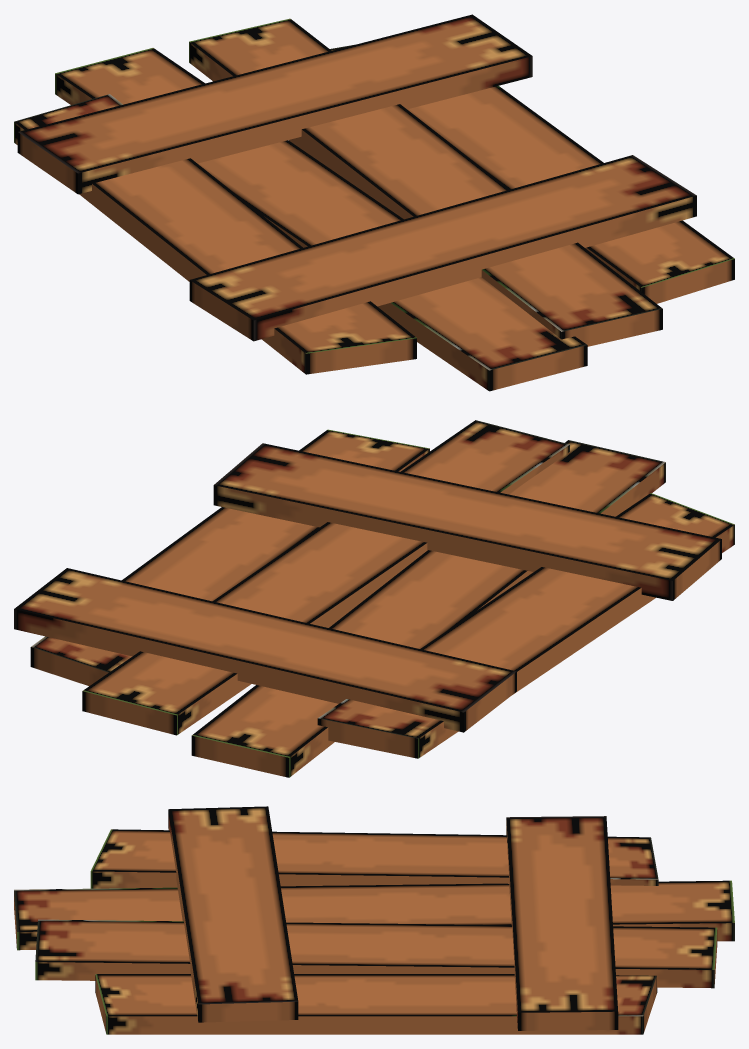
File: deco_woodPlanks.FBX
3 renders of one model, top to bottom at view 1: azimuth 30°, elevation 25°; view 2: azimuth 150°, elevation 25°; view 3: azimuth 270°, elevation 25°, orthographic. The views are drawn at different scales.
Parts seen in each view (by area): view 1: deco_woodPlanks; view 2: deco_woodPlanks; view 3: deco_woodPlanks.
Boxes of the visible parts, bbox=[...] form: deco_woodPlanks: bbox=[14, 14, 734, 391]; deco_woodPlanks: bbox=[14, 420, 734, 777]; deco_woodPlanks: bbox=[14, 806, 734, 1034].
Size of the model in its own units: 2.44 by 0.2 by 3.6.
Materials: 1 (1 with a texture image).
